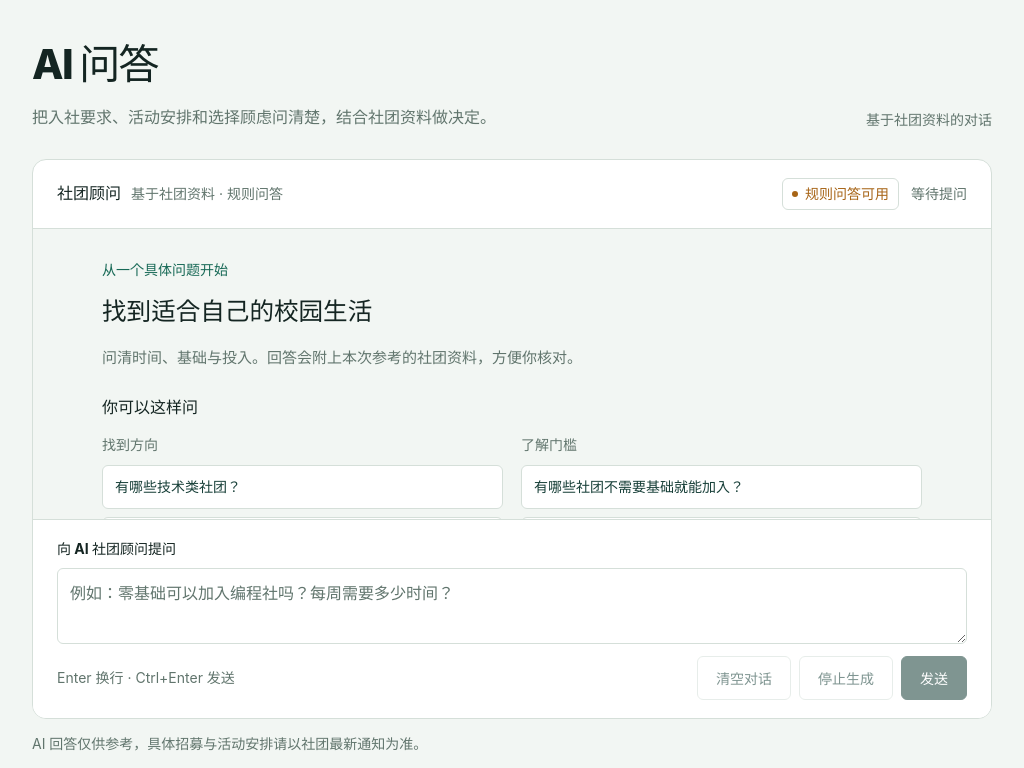
Test: Chat decision workspace › allows reachable rules fallback to answer with sources when AI is unconfigured
This screenshot has width=1024, height=768.
Type "哪个社团适合编程初学者？" into the text box labelled "向 AI 社团顾问提问" at [512, 606], box [57,568,967,644]
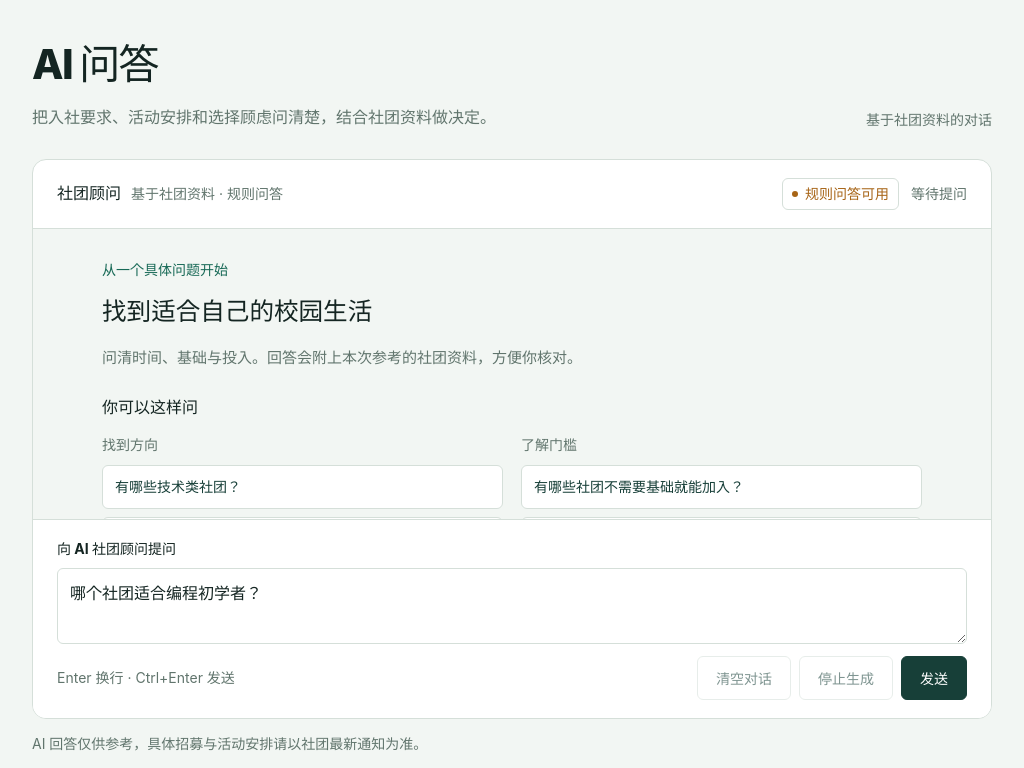
Check: the header with class "workspace-status" shows "规则问答可用", box [805,185,889,202]
Check: the submit button is enabled, box [901,656,967,700]
Submit the form, box [33,519,991,718]
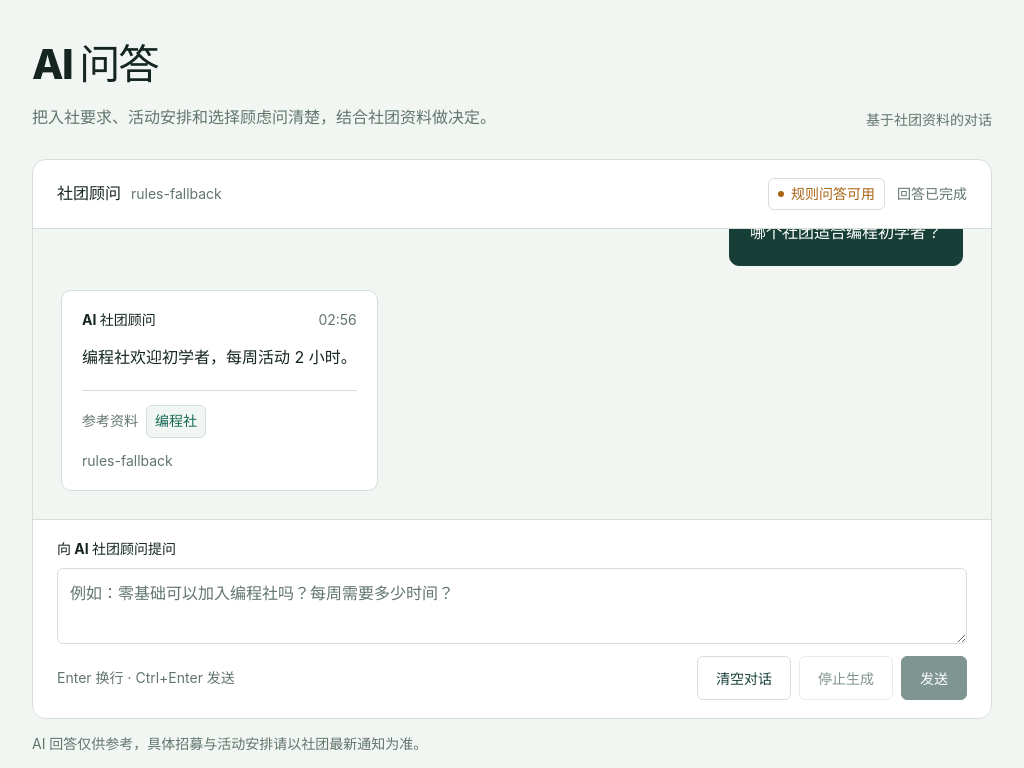
Check: the text "哪个社团适合编程初学者？" is shown, box [750,229,942,247]
Check: the element with class "assistant" shows "编程社欢迎初学者，每周活动 2 小时。", box [82,347,357,367]
Check: the element named "回答资料来源" shows "编程社", box [155,412,197,429]
